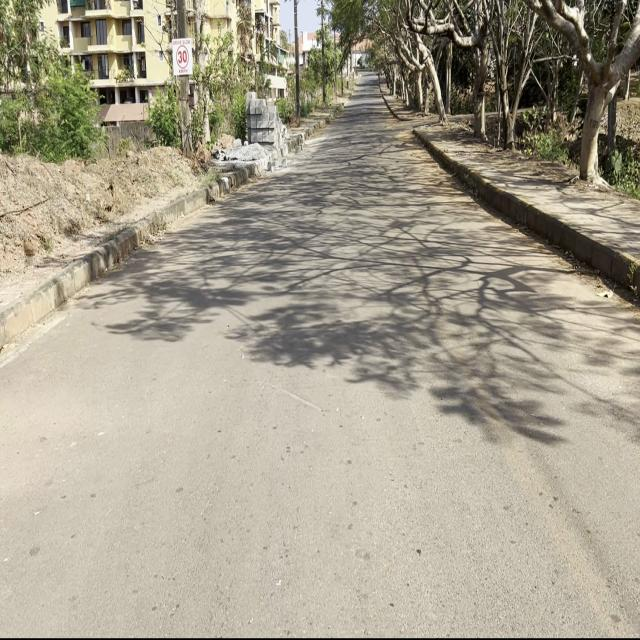Road: (0, 87, 640, 639)
